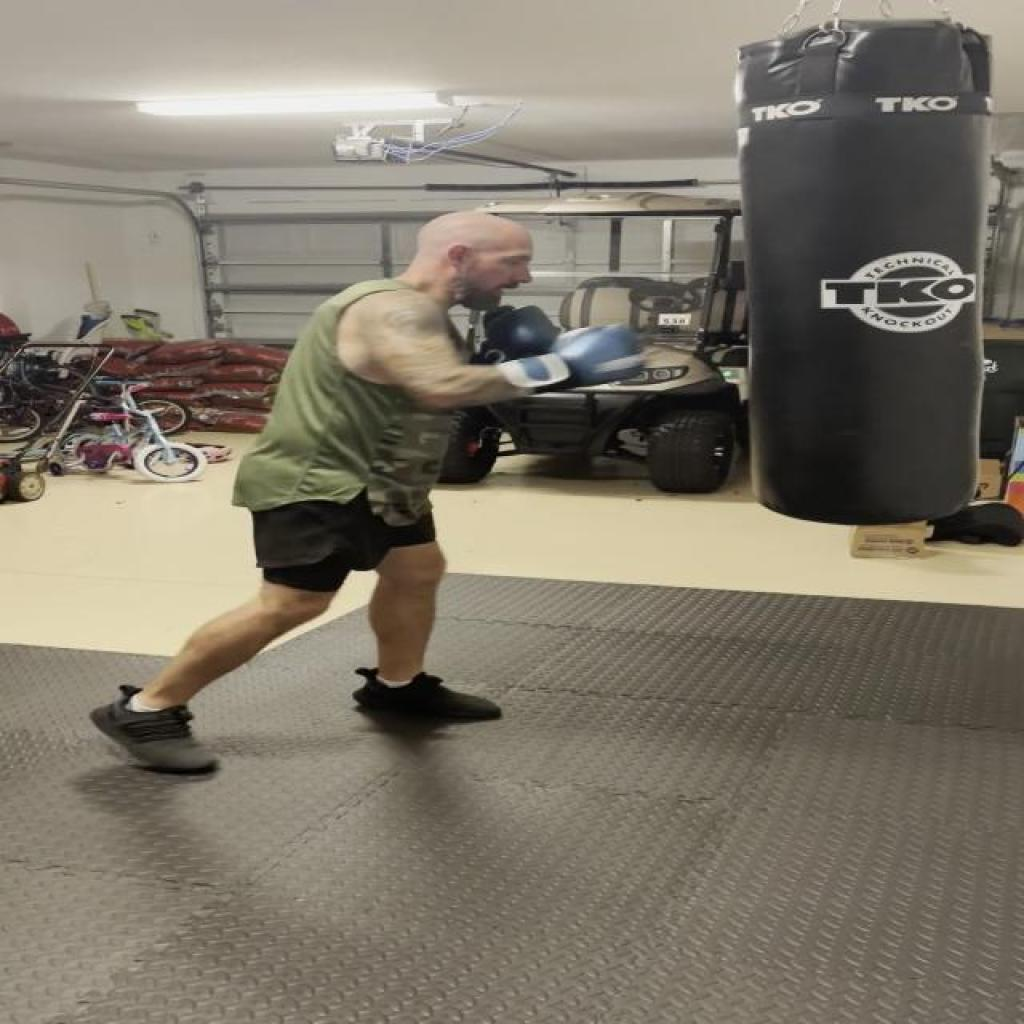bag: (723, 18, 1013, 539)
cross: (275, 192, 653, 416)
